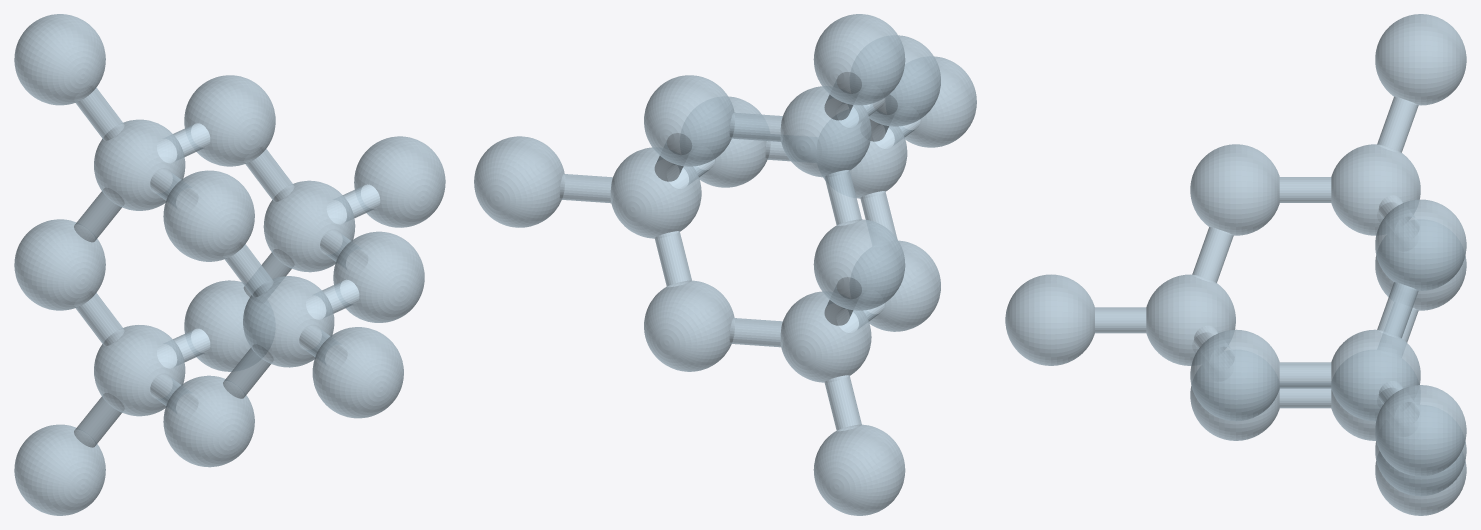
The model's file is crystal-diamond-carbon-nih-material-fixed.glb.
The picture shows the model from 3 angles, left to right: view 1: azimuth 30°, elevation 25°; view 2: azimuth 150°, elevation 25°; view 3: azimuth 270°, elevation 25°; orthographic projection.
Parts seen in each view (by area): view 1: di.af_.stl; view 2: di.af_.stl; view 3: di.af_.stl.
Boxes of the visible parts, x1,y1,x2,y2 form: di.af_.stl: (14, 14, 445, 515); di.af_.stl: (474, 14, 976, 515); di.af_.stl: (1005, 14, 1466, 515).
Bounding box in the file's own units: 74 × 83.25 × 70.53.
